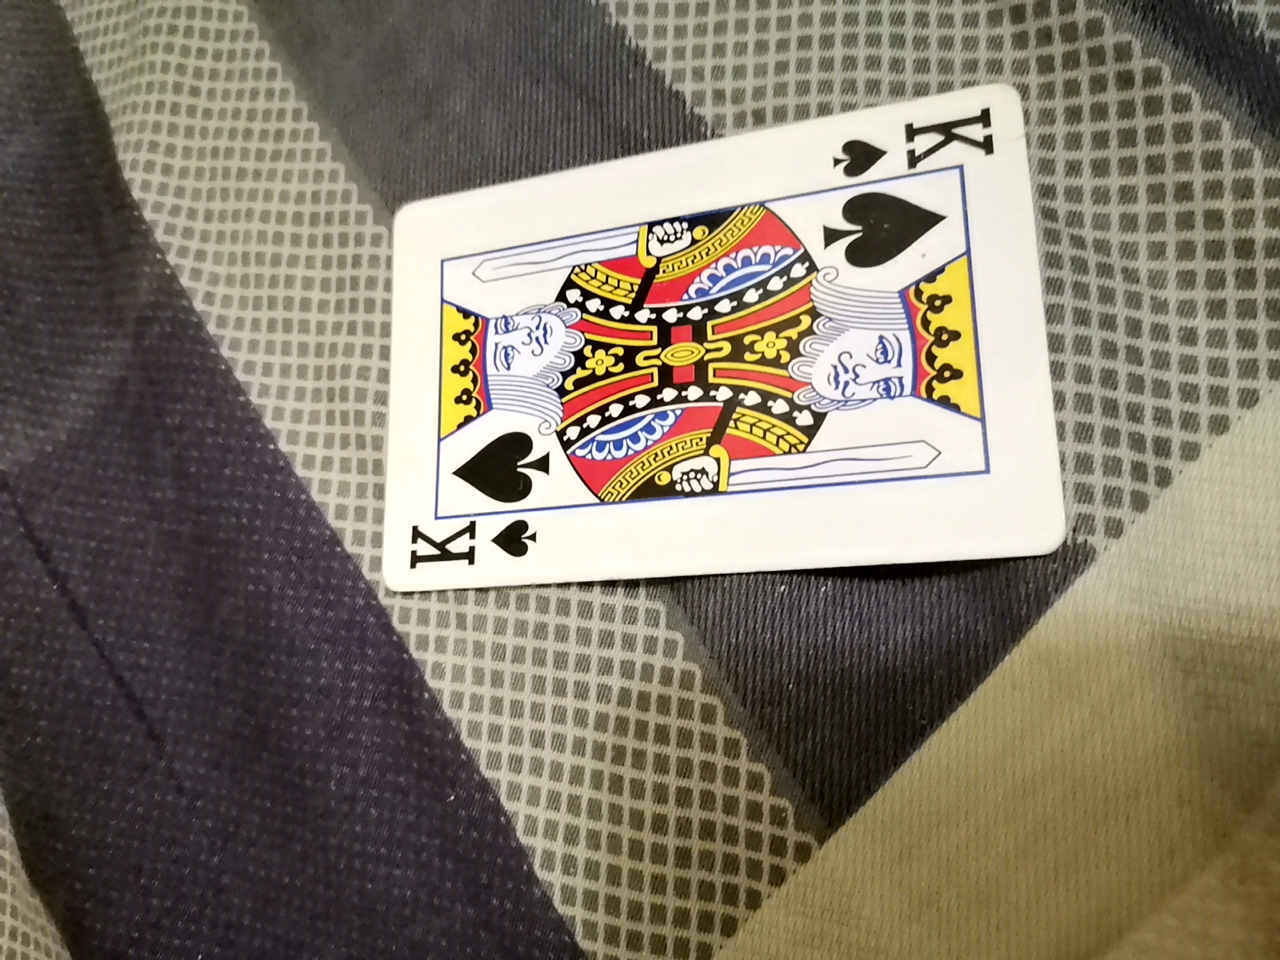ht k: (375, 54, 1080, 571)
